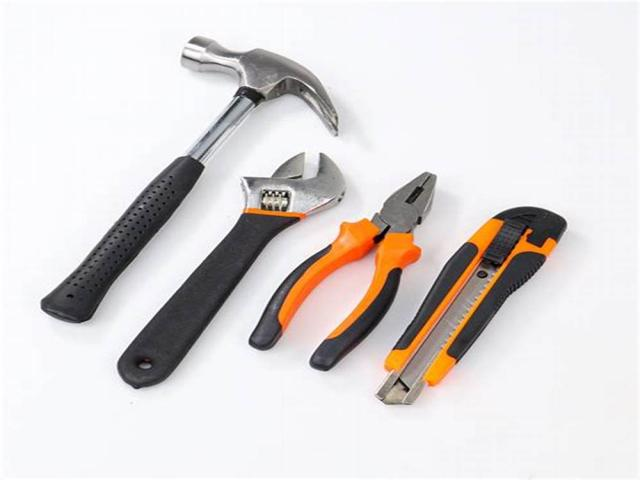Adjustable spanner: (118, 154, 345, 388)
Hammer: (41, 37, 338, 322)
Pliers: (249, 172, 436, 370)
Utility knife: (376, 207, 565, 404)
